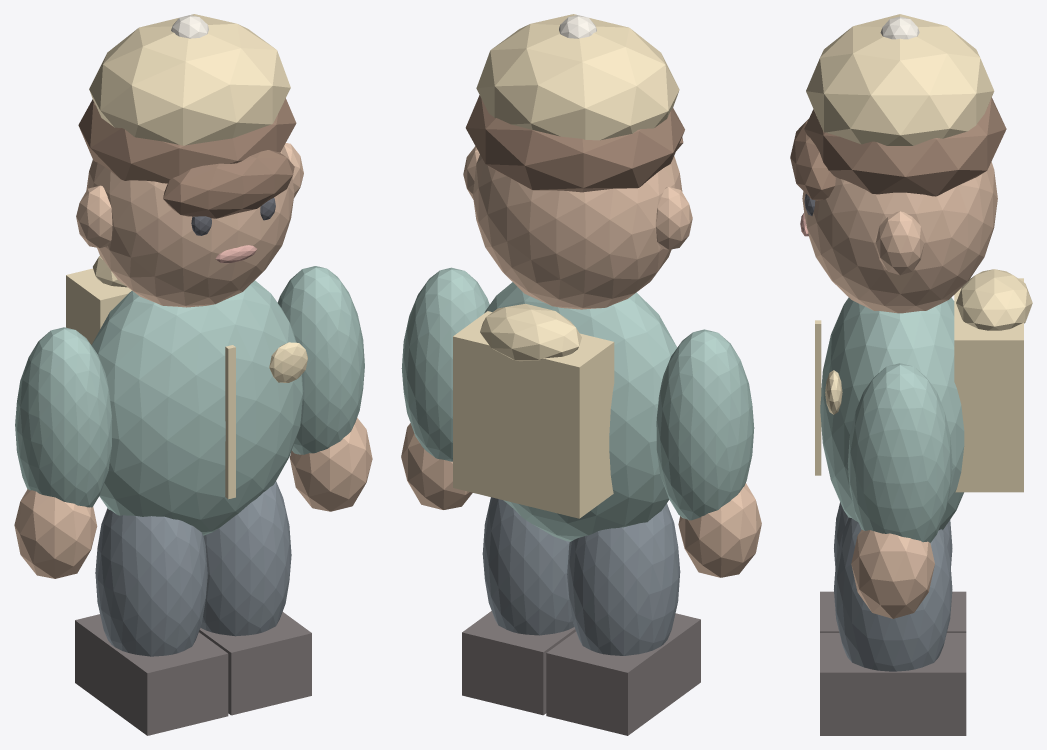
The model's file is witness_02.glb.
3 renders of one model, left to right at view 1: azimuth 30°, elevation 25°; view 2: azimuth 150°, elevation 25°; view 3: azimuth 270°, elevation 25°, orthographic.
Parts seen in each view (by area): view 1: torso, beanie, head, left_upper_arm, left_leg, left_boot, right_upper_arm, right_leg, hair_cap, right_boot, hair_fringe, left_hand (+6 smaller); view 2: backpack, head, beanie, torso, left_upper_arm, left_leg, left_boot, hair_cap, right_upper_arm, right_leg, right_boot, left_hand (+4 smaller); view 3: beanie, head, right_upper_arm, torso, right_boot, backpack, hair_cap, right_leg, right_hand, backpack_roll, right_ear, hair_fringe (+5 smaller).
Part boxes in pixels (box(x1,y1,x2,y2)): torso: box(91, 280, 303, 535); beanie: box(89, 14, 290, 145); head: box(86, 146, 294, 307); left_upper_arm: box(15, 327, 112, 507); left_leg: box(95, 508, 207, 656); left_boot: box(75, 614, 228, 735); right_upper_arm: box(277, 266, 364, 454); right_leg: box(200, 481, 291, 636); hair_cap: box(78, 98, 296, 183); right_boot: box(199, 612, 311, 715); hair_fringe: box(163, 150, 294, 218); left_hand: box(14, 489, 97, 578); backpack: box(453, 311, 614, 518); head: box(473, 154, 682, 309); beanie: box(476, 14, 679, 140); torso: box(484, 282, 677, 541); left_upper_arm: box(656, 329, 754, 520); left_leg: box(567, 503, 680, 655); left_boot: box(546, 613, 700, 735); hair_cap: box(465, 95, 684, 192); right_upper_arm: box(401, 267, 489, 461); right_leg: box(482, 497, 574, 635); right_boot: box(462, 611, 575, 715); left_hand: box(678, 483, 761, 577); beanie: box(806, 14, 994, 145); head: box(802, 162, 997, 313); right_upper_arm: box(847, 363, 952, 542); torso: box(820, 297, 964, 530); right_boot: box(820, 633, 966, 735); backpack: box(954, 278, 1023, 492); hair_cap: box(804, 97, 1006, 196); right_leg: box(834, 517, 952, 671); right_hand: box(851, 530, 934, 618); backpack_roll: box(956, 269, 1032, 330); right_ear: box(875, 211, 924, 275); hair_fringe: box(790, 119, 835, 200).
Size of the model in its own units: 1.16 by 2.14 by 0.695.
